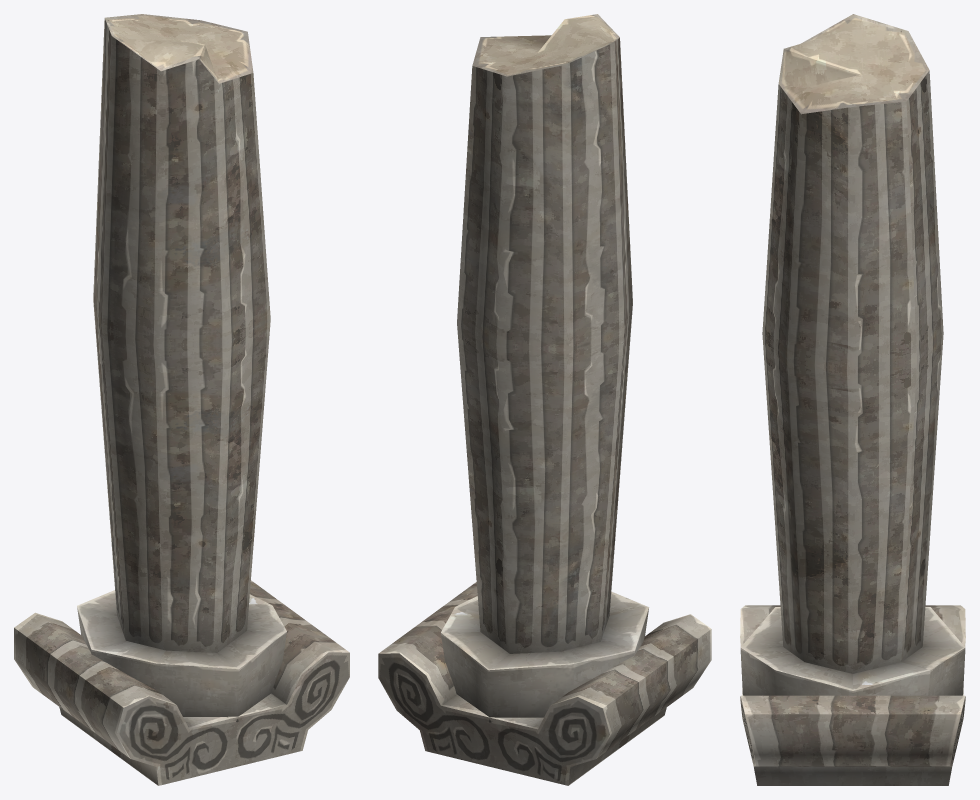
Rendered from Toon_Column_01_Third.fbx.
3 views of the same model, side by side, from view 1: azimuth 30°, elevation 25°; view 2: azimuth 150°, elevation 25°; view 3: azimuth 270°, elevation 25° (orthographic).
Visible parts, largest first — view 1: Toon_Column_01_Third; view 2: Toon_Column_01_Third; view 3: Toon_Column_01_Third.
Boxes of the visible parts, x1=… form: Toon_Column_01_Third: x1=14, y1=14, x2=349, y2=785; Toon_Column_01_Third: x1=378, y1=14, x2=711, y2=785; Toon_Column_01_Third: x1=740, y1=14, x2=965, y2=785.
Bounding box in the file's own units: 5.38 × 15.72 × 4.57.
